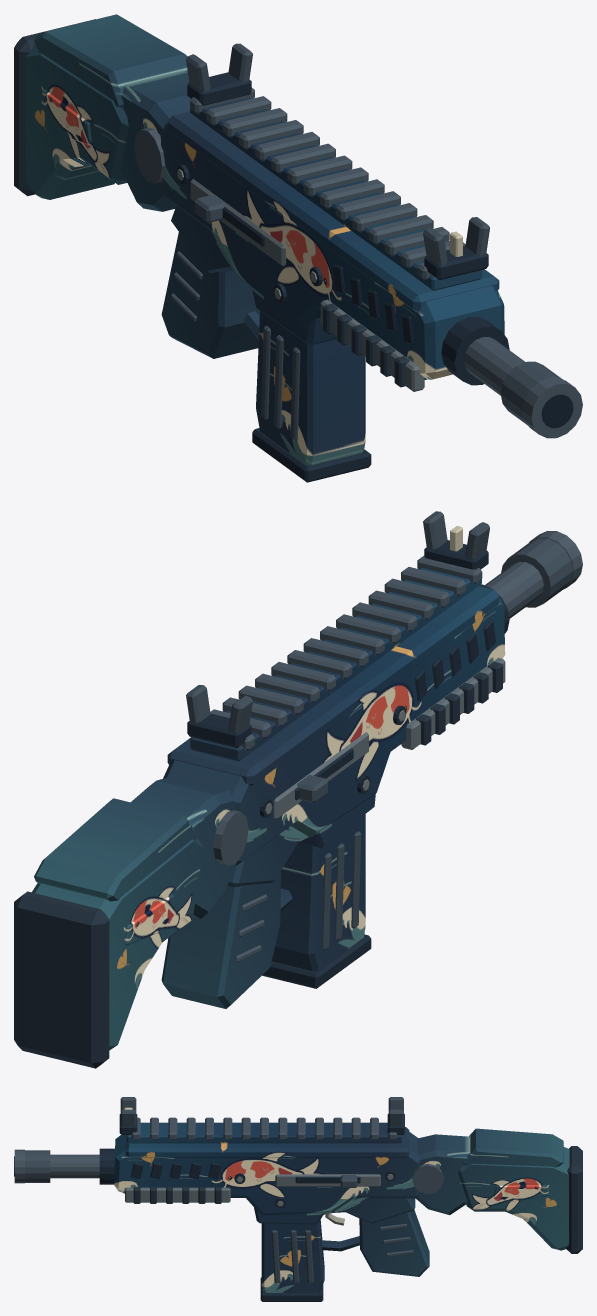
Rendered from SCAR_Koi.glb.
The picture shows the model from 3 angles, top to bottom: view 1: azimuth 30°, elevation 25°; view 2: azimuth 150°, elevation 25°; view 3: azimuth 270°, elevation 25°; orthographic projection. The views are drawn at different scales.
Visible parts, largest first — view 1: Main, Stock, Magazine; view 2: Main, Stock, Magazine; view 3: Main, Stock, Magazine.
Part boxes in pixels (left/top/right/bottom): Main: left=160, top=43, right=582, bottom=438; Stock: left=14, top=14, right=190, bottom=211; Magazine: left=252, top=311, right=371, bottom=482; Main: left=161, top=511, right=582, bottom=1008; Stock: left=14, top=776, right=248, bottom=1068; Magazine: left=262, top=814, right=371, bottom=988; Main: left=14, top=1097, right=429, bottom=1276; Stock: left=412, top=1128, right=582, bottom=1253; Magazine: left=260, top=1220, right=324, bottom=1301.
Size of the model in its own units: 0.549 by 1.45 by 3.93.
1 material, 1 textured.
